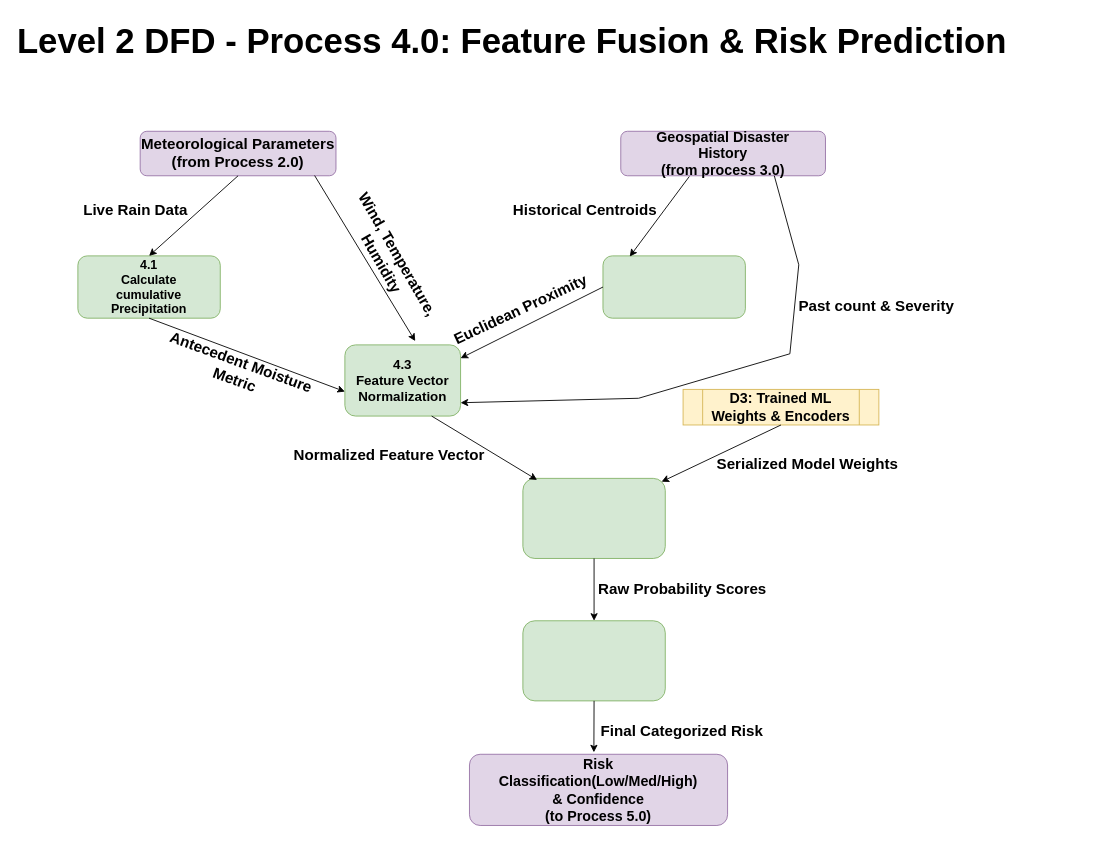
The diagram is 1107 pixels wide and 841 high, and some of its shapes have lost their labels. The shapes that lost their labels are listed below. From the top down, each one's centre as x and y in pixels, then its label:
At (x=673, y=286): "4.2 Compute Spatial Index".
At (x=593, y=517): "4.4 ML Model Execution (XGBoost / LSTM)".
At (x=593, y=660): "4.5 Severity Classification & Confidence Scoring".
